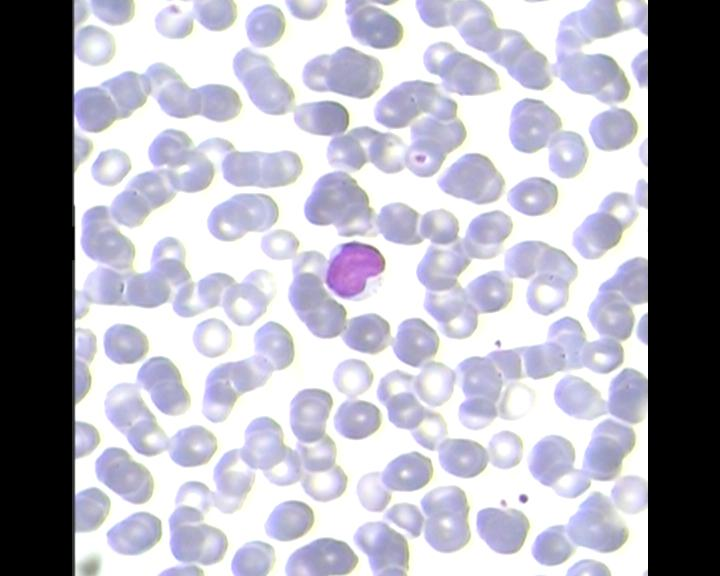lymp: (324, 238, 391, 302)
